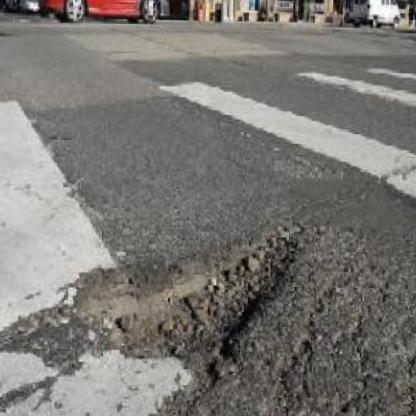pothole: (54, 209, 307, 384)
